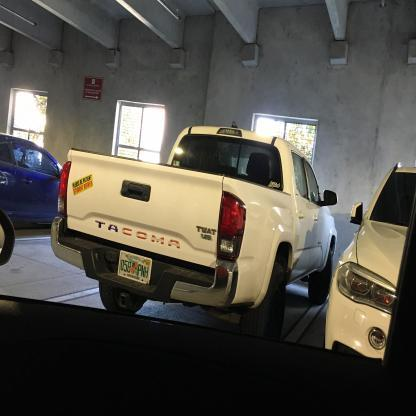License-Plate: (112, 248, 158, 288)
